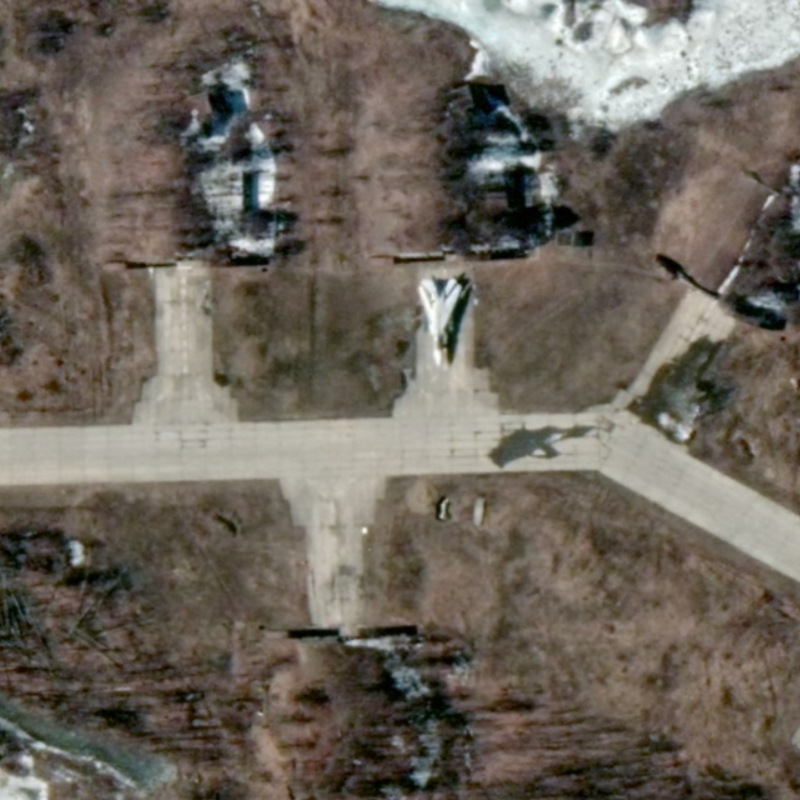A20: (415, 276, 465, 369)
